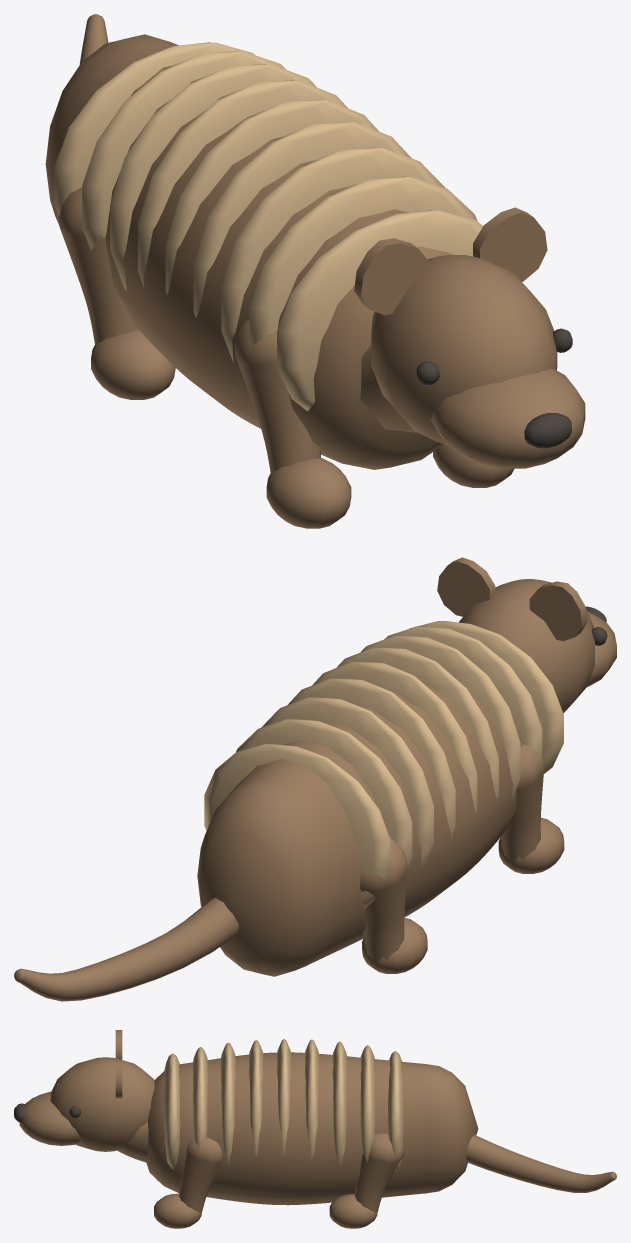
File: rainforest-and-jungle-fauna-nine-banded-armadillo-8c9bc470__21669.glb
The picture shows the model from 3 angles, top to bottom: view 1: azimuth 30°, elevation 25°; view 2: azimuth 150°, elevation 25°; view 3: azimuth 270°, elevation 25°; orthographic projection. The views are drawn at different scales.
Visible parts, largest first — view 1: nine-banded-armadillo; view 2: nine-banded-armadillo; view 3: nine-banded-armadillo.
Part boxes in pixels (x1,y1,x2,y2): nine-banded-armadillo: (45, 14, 585, 528); nine-banded-armadillo: (14, 557, 616, 1001); nine-banded-armadillo: (14, 1030, 616, 1228).
Size of the model in its own units: 0.1795 by 0.2071 by 0.7.
